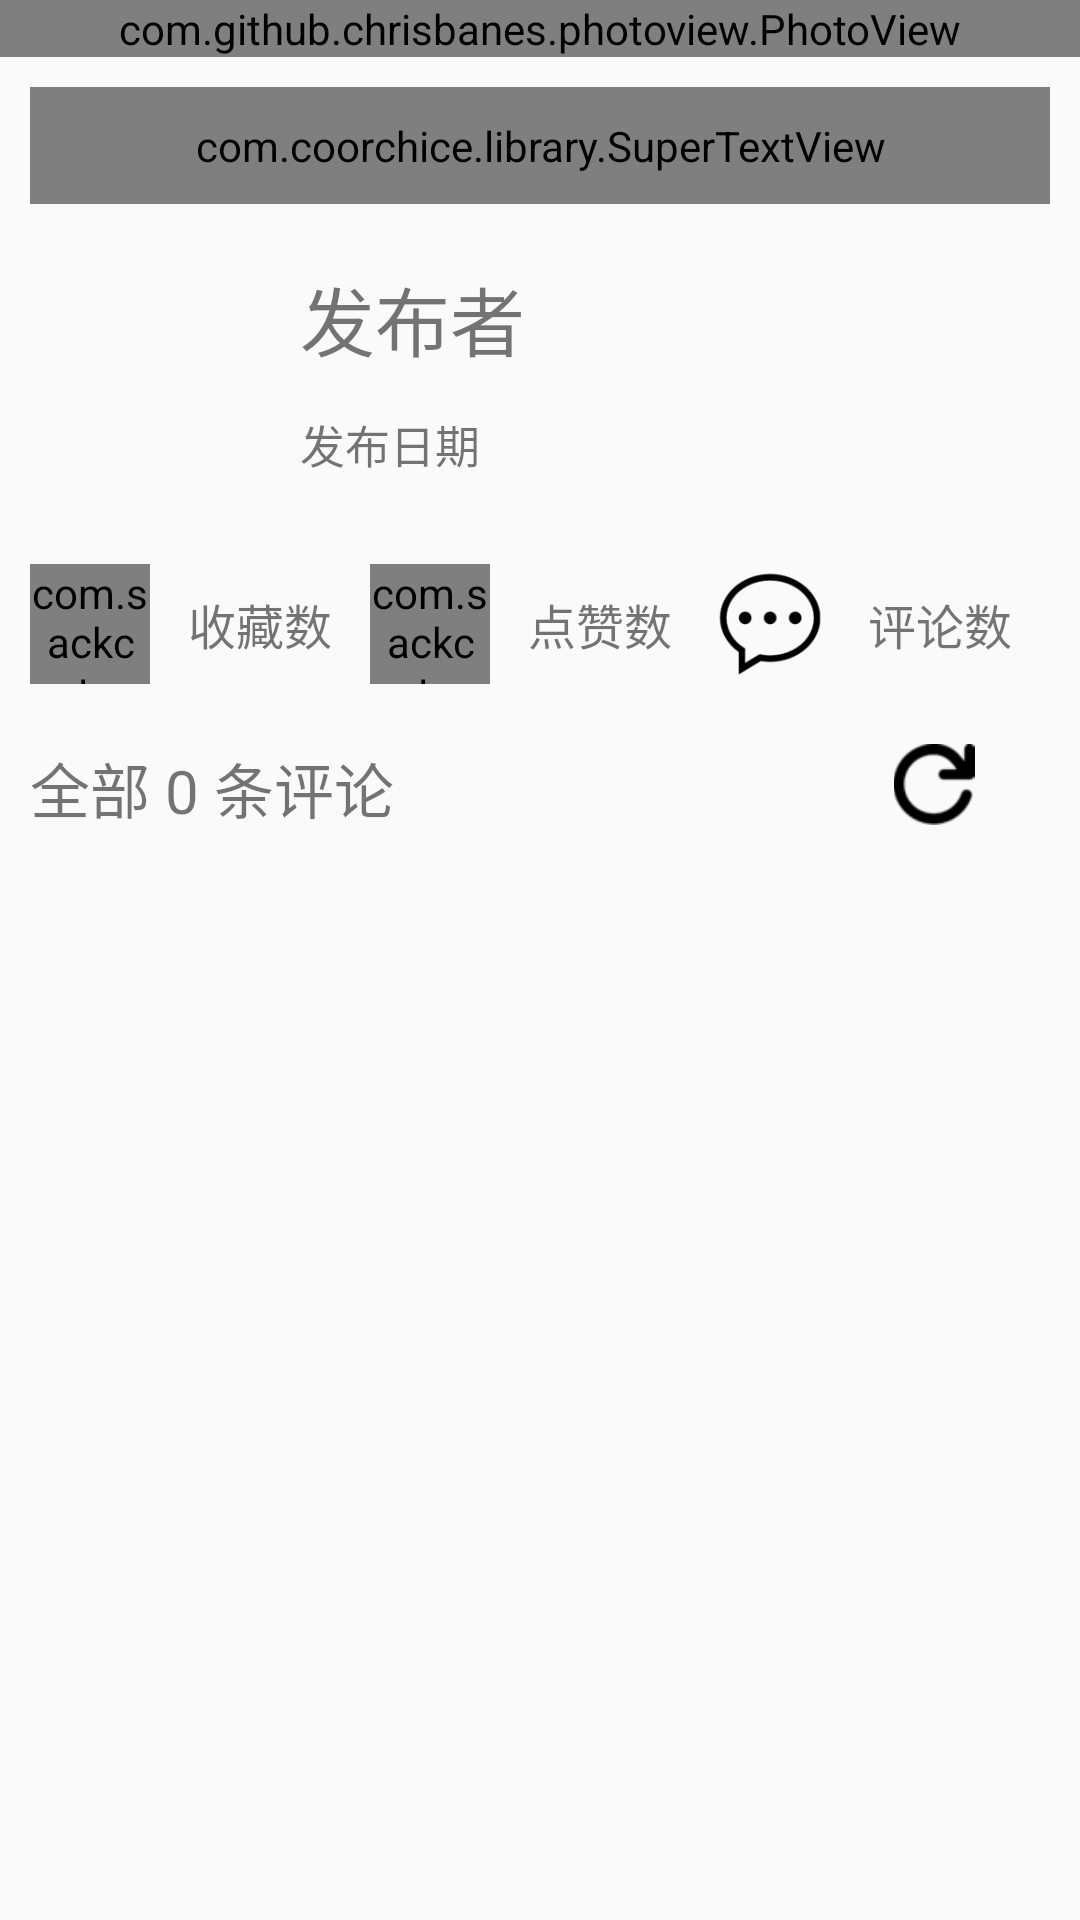

Icon click points for this 1080px x 1920px phone screenshot, format [x,y]:
comment: [770,624]
refresh: [934,784]
